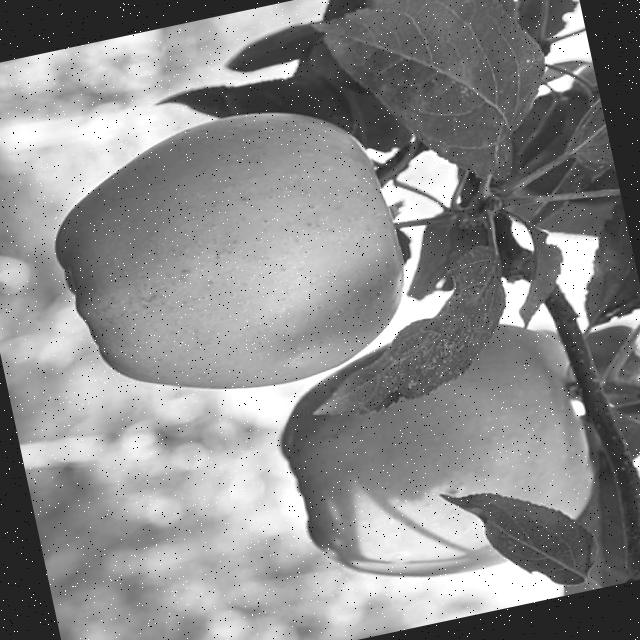Unripe: (34, 84, 424, 426)
